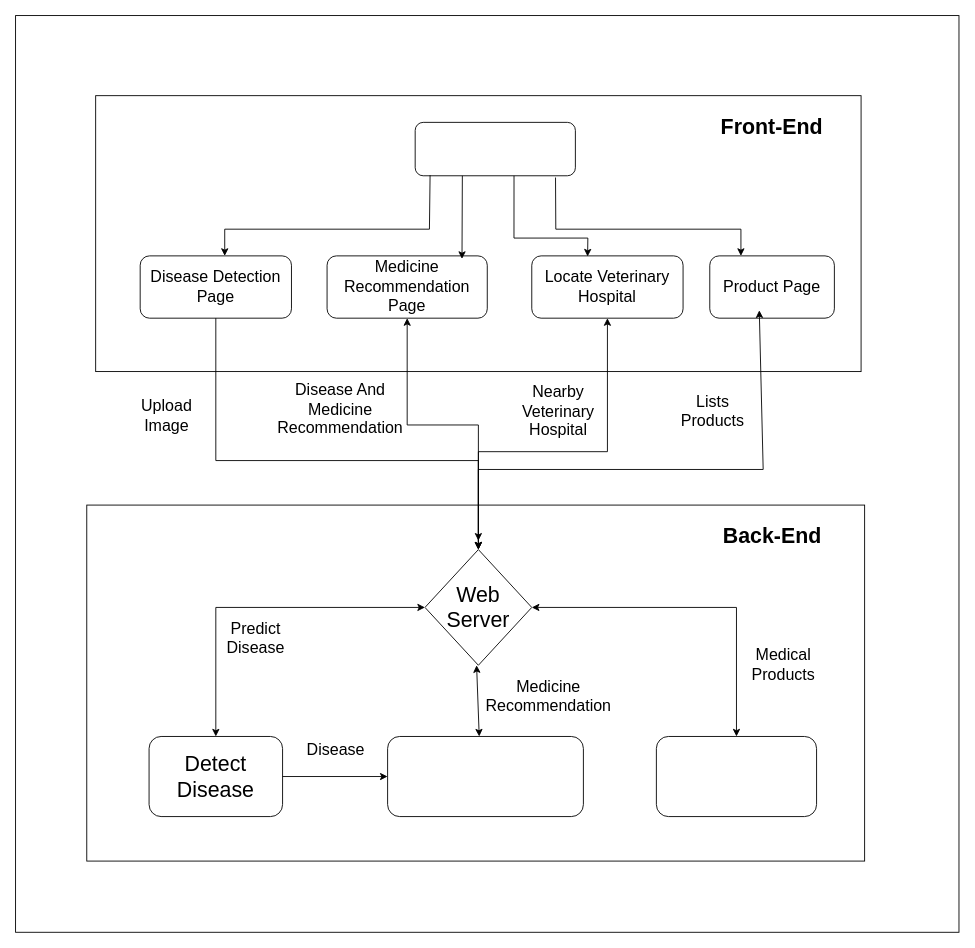
Image size: 975x948. Some labels were removed from this diagram. Here are the shapes that lost their labels. From the top down, the box of each, then its label:
(414, 121, 575, 176): index.html
(387, 736, 583, 817): Recommendation Service
(655, 736, 817, 817): Scraping Products
